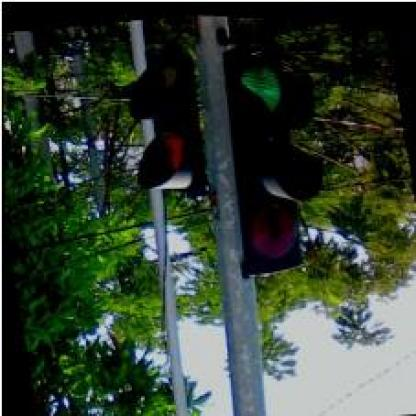green: (207, 32, 343, 280)
